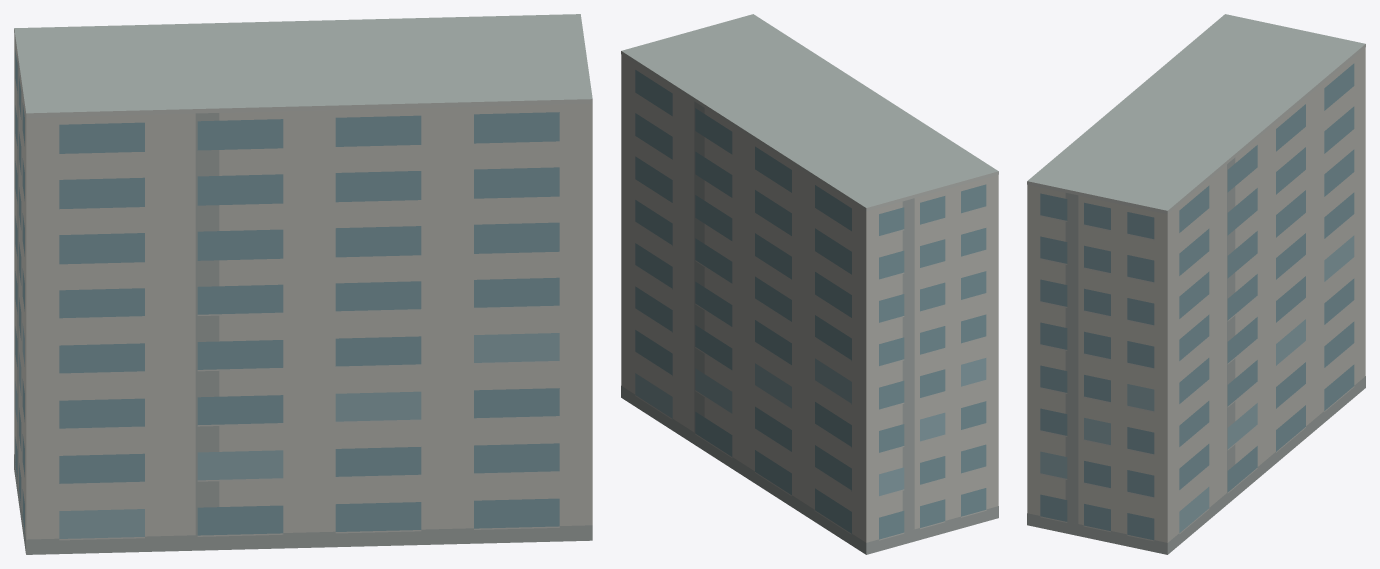
Rendered from residential-e01566d9-2de0-464a-a3b5-eab0f178af44.glb.
The picture shows the model from 3 angles, left to right: view 1: azimuth 30°, elevation 25°; view 2: azimuth 150°, elevation 25°; view 3: azimuth 270°, elevation 25°; orthographic projection. The views are drawn at different scales.
Parts seen in each view (by area): view 1: residential-e01566d9-2de0-464a-a3b5-eab0f178af44.tmp; view 2: residential-e01566d9-2de0-464a-a3b5-eab0f178af44.tmp; view 3: residential-e01566d9-2de0-464a-a3b5-eab0f178af44.tmp.
Part boxes in pixels (x1,y1,x2,y2): residential-e01566d9-2de0-464a-a3b5-eab0f178af44.tmp: (14,14,592,554); residential-e01566d9-2de0-464a-a3b5-eab0f178af44.tmp: (621,14,998,554); residential-e01566d9-2de0-464a-a3b5-eab0f178af44.tmp: (1027,14,1365,554).
Size of the model in its own units: 29.95 by 24.4 by 21.77.
